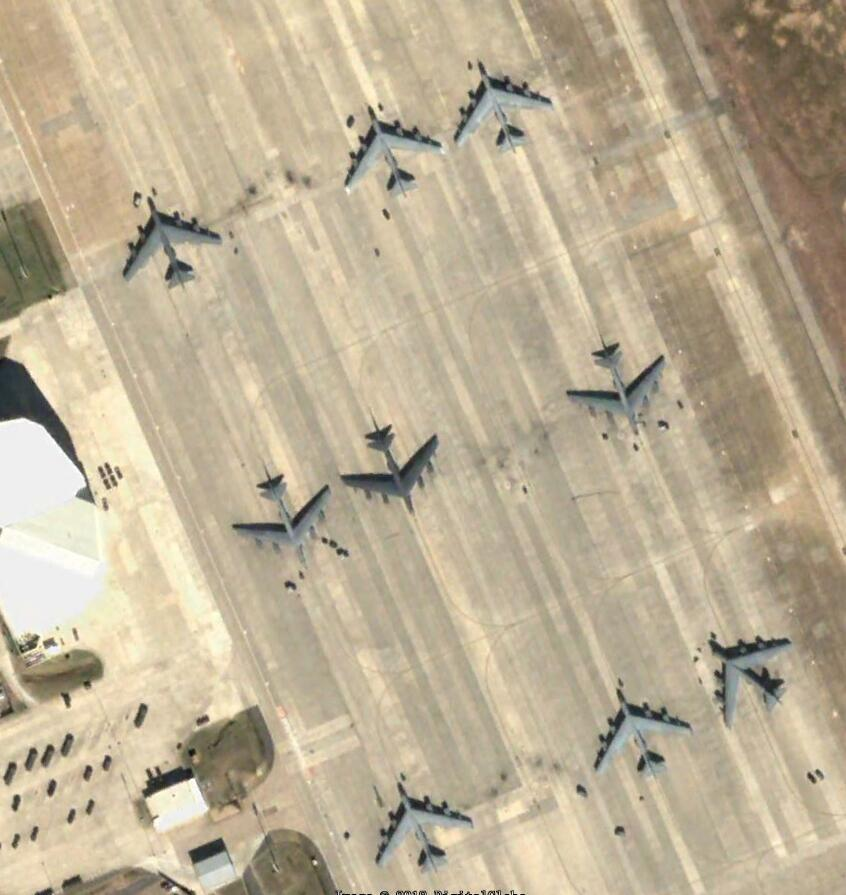A8: (223, 460, 336, 565), (449, 57, 557, 161), (339, 412, 443, 516), (339, 100, 445, 202), (587, 682, 693, 784), (560, 334, 668, 434), (366, 777, 477, 873), (114, 193, 222, 291), (705, 628, 797, 731)
